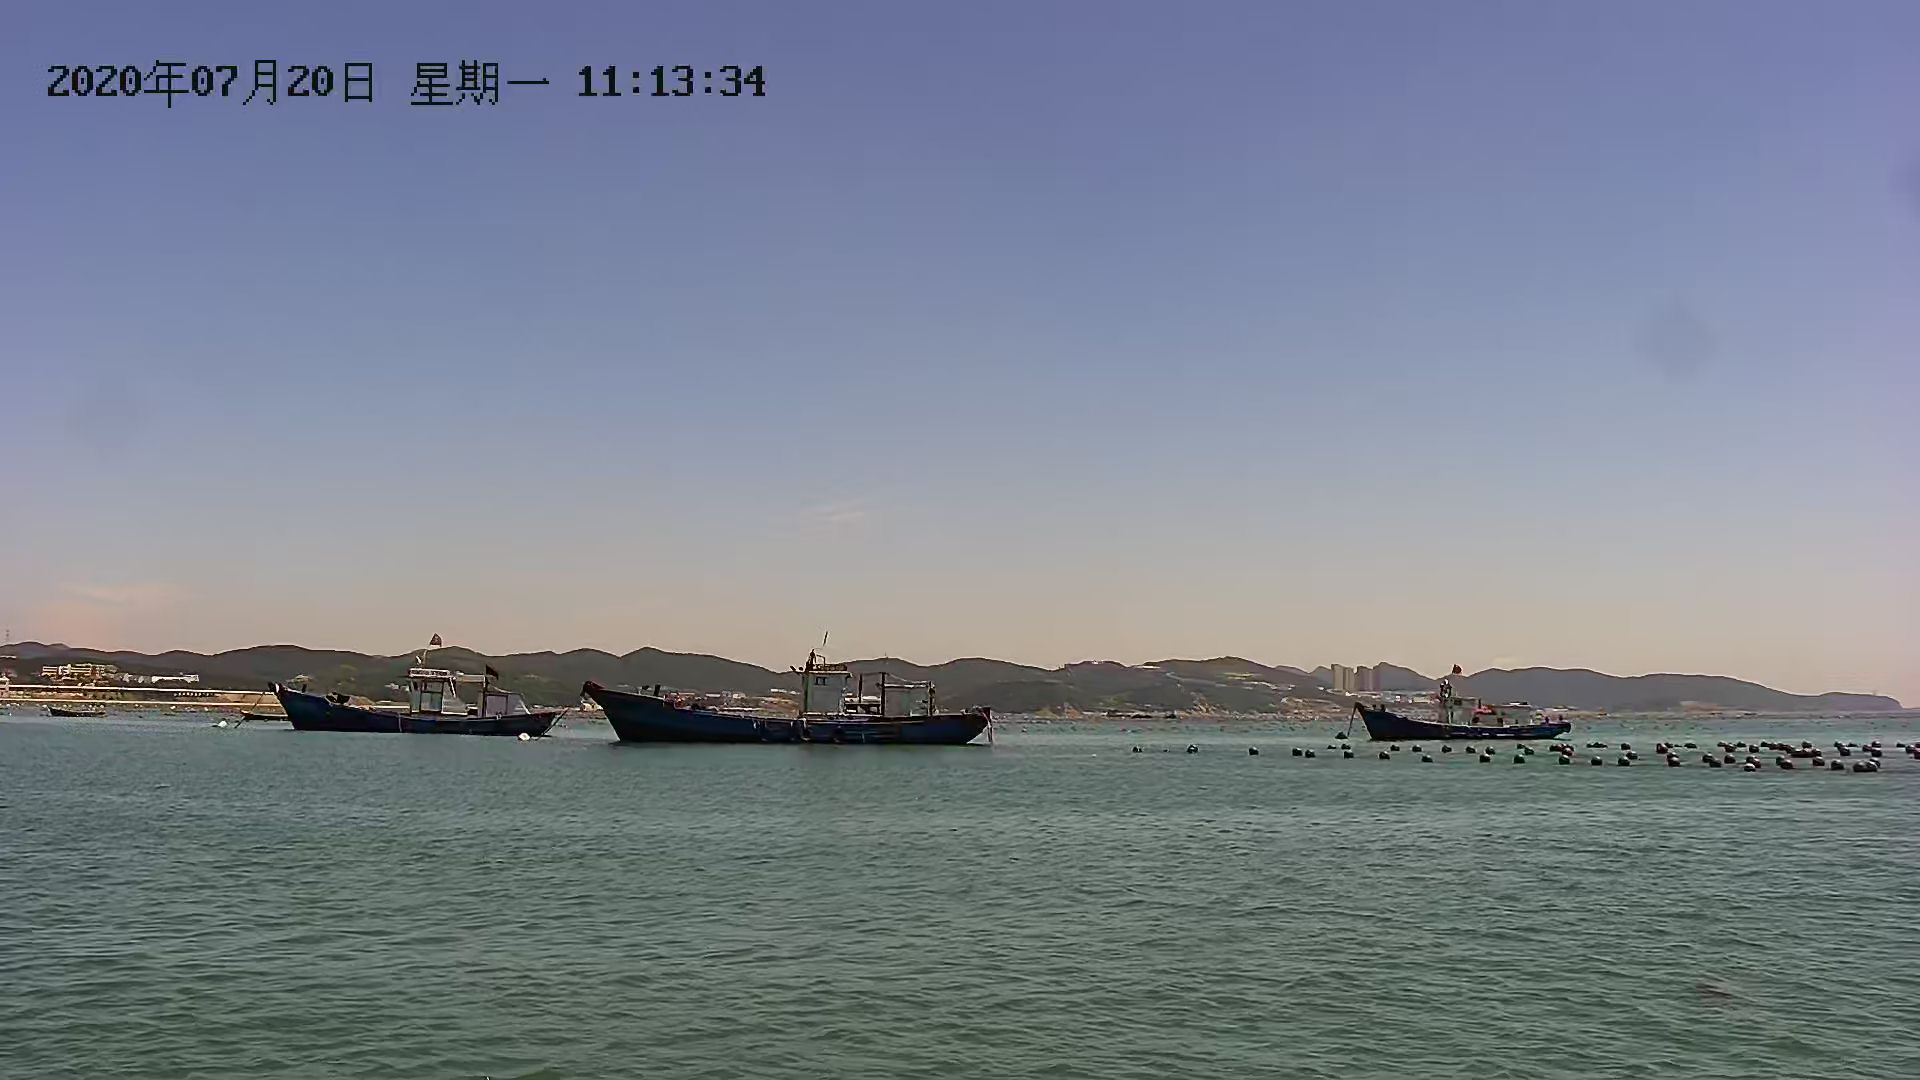ship: (576, 661, 996, 752), (266, 665, 558, 740), (1356, 684, 1573, 741)
